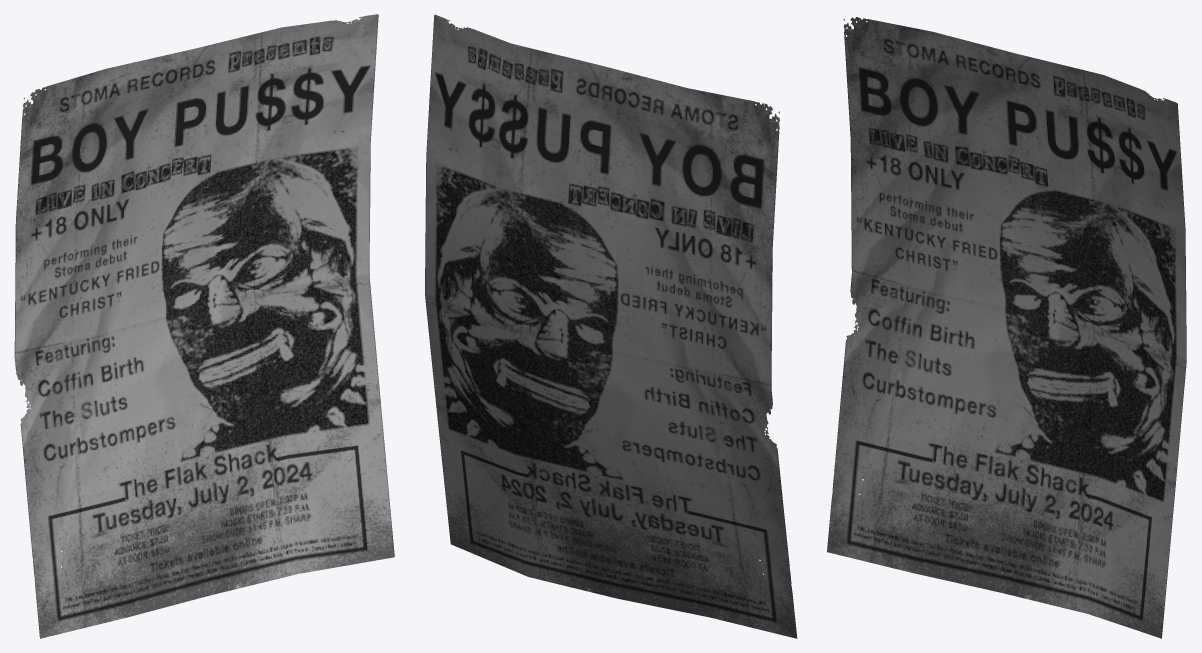
The model's file is punk_poster_1.fbx.
3 renders of one model, left to right at view 1: azimuth 30°, elevation 25°; view 2: azimuth 150°, elevation 25°; view 3: azimuth 330°, elevation 25°, orthographic. The views are drawn at different scales.
Parts seen in each view (by area): view 1: punk_poster_1; view 2: punk_poster_1; view 3: punk_poster_1.
Part boxes in pixels (left/top/right/bottom): punk_poster_1: left=14, top=14, right=394, bottom=638; punk_poster_1: left=425, top=14, right=797, bottom=638; punk_poster_1: left=827, top=17, right=1186, bottom=638.
Bounding box in the file's own units: 47.44 × 69.51 × 8.44.
